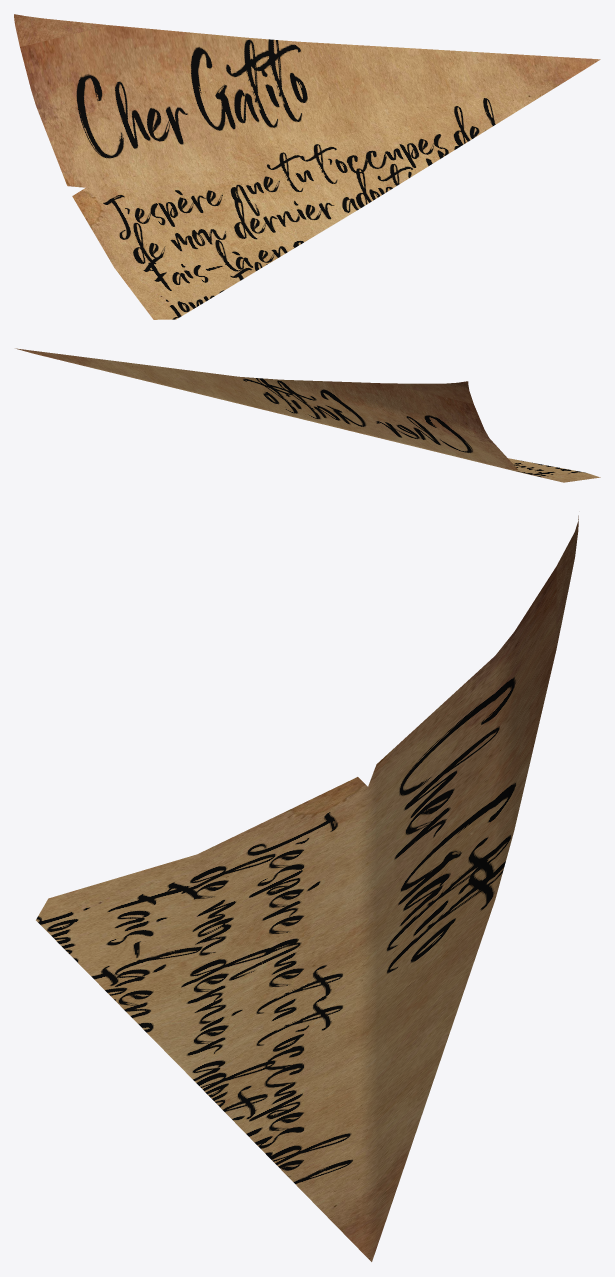
File: lettre_partie2.fbx
The picture shows the model from 3 angles, top to bottom: view 1: azimuth 30°, elevation 25°; view 2: azimuth 150°, elevation 25°; view 3: azimuth 270°, elevation 25°; orthographic projection. The views are drawn at different scales.
Visible parts, largest first — view 1: polySurface5; view 2: polySurface5; view 3: polySurface5.
Boxes of the visible parts, x1,y1,x2,y2 form: polySurface5: [14, 14, 600, 319]; polySurface5: [15, 348, 600, 482]; polySurface5: [36, 515, 578, 1261].
Size of the model in its own units: 4.97 by 1.83 by 2.31.
